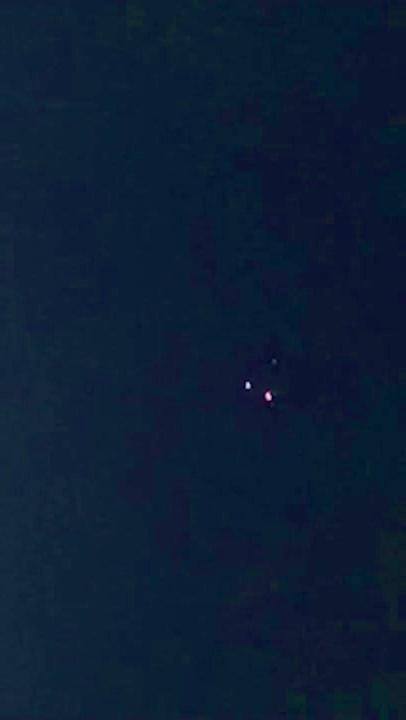Plane: (237, 348, 286, 411)
